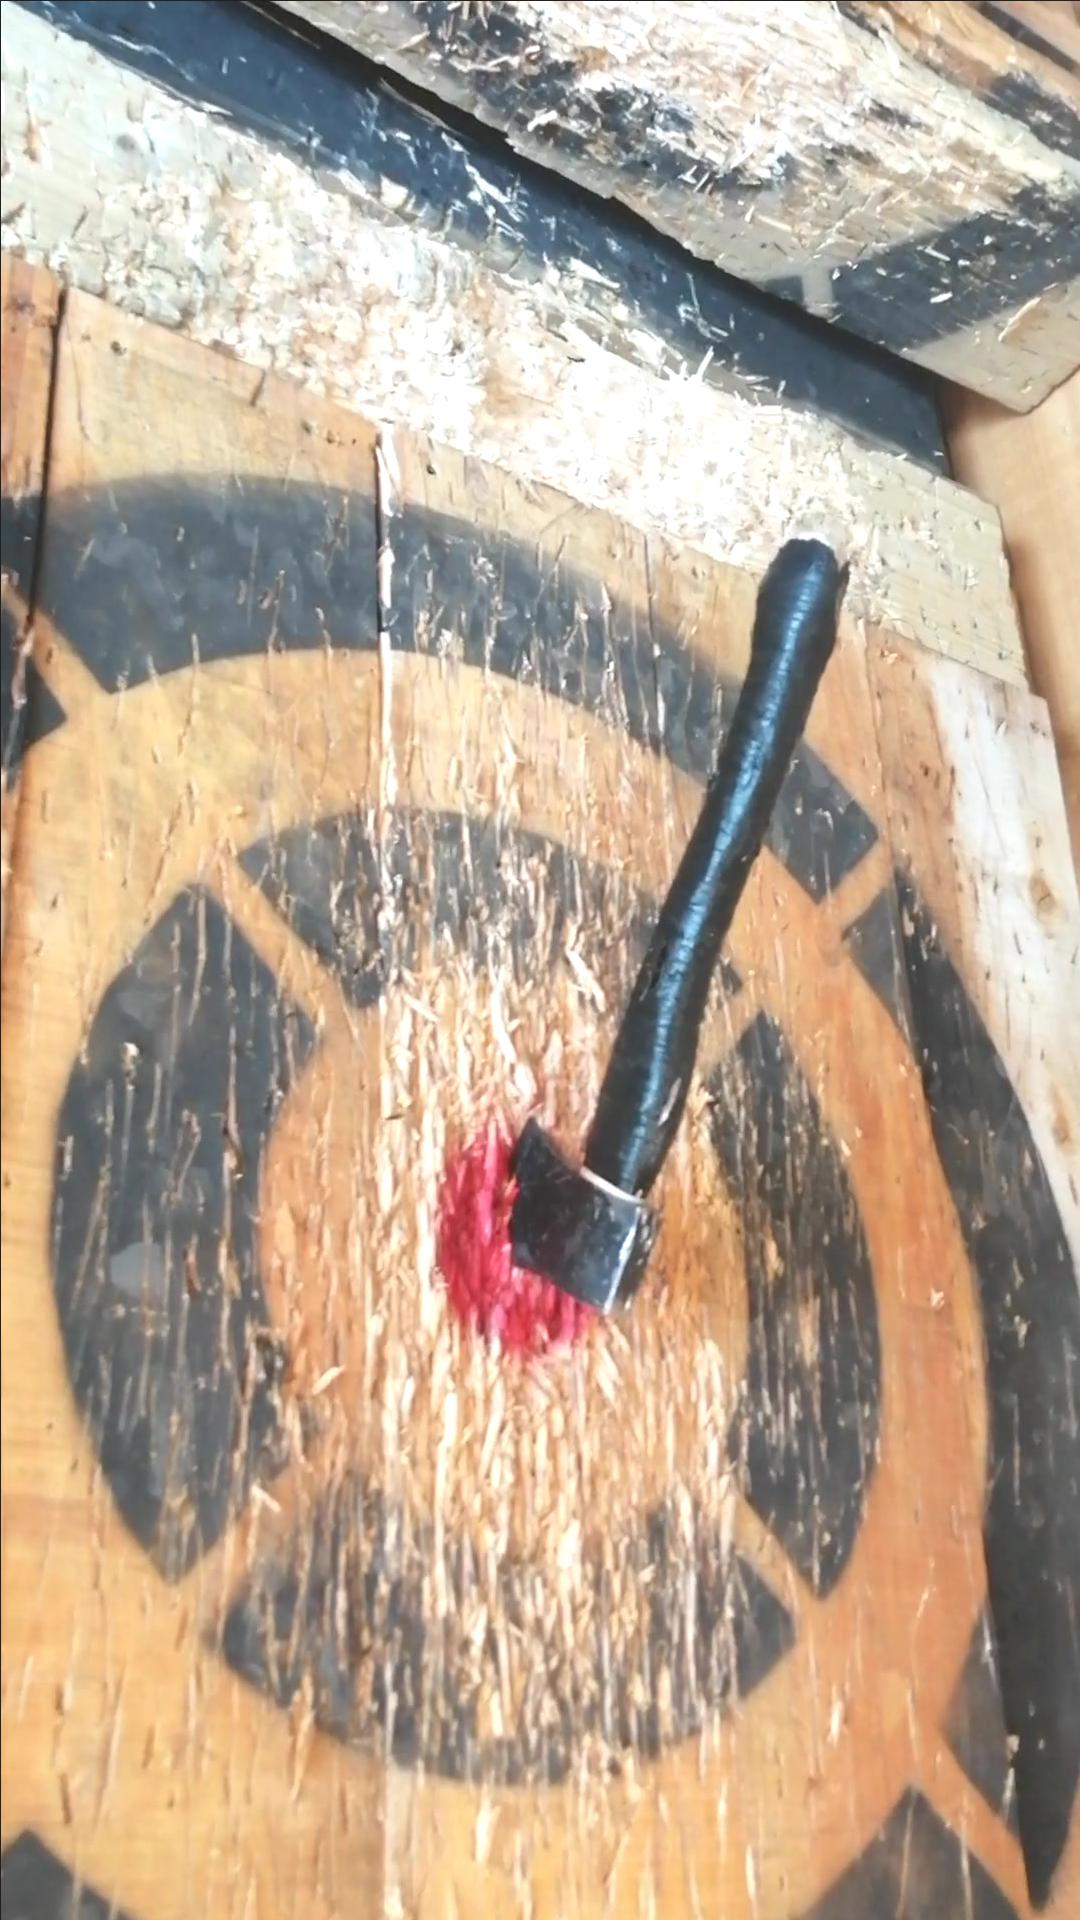Hand Axe: (487, 1117, 659, 1312)
